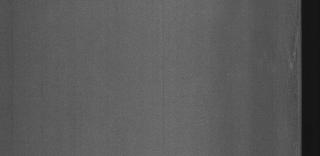silk spot: (268, 28, 300, 114)
